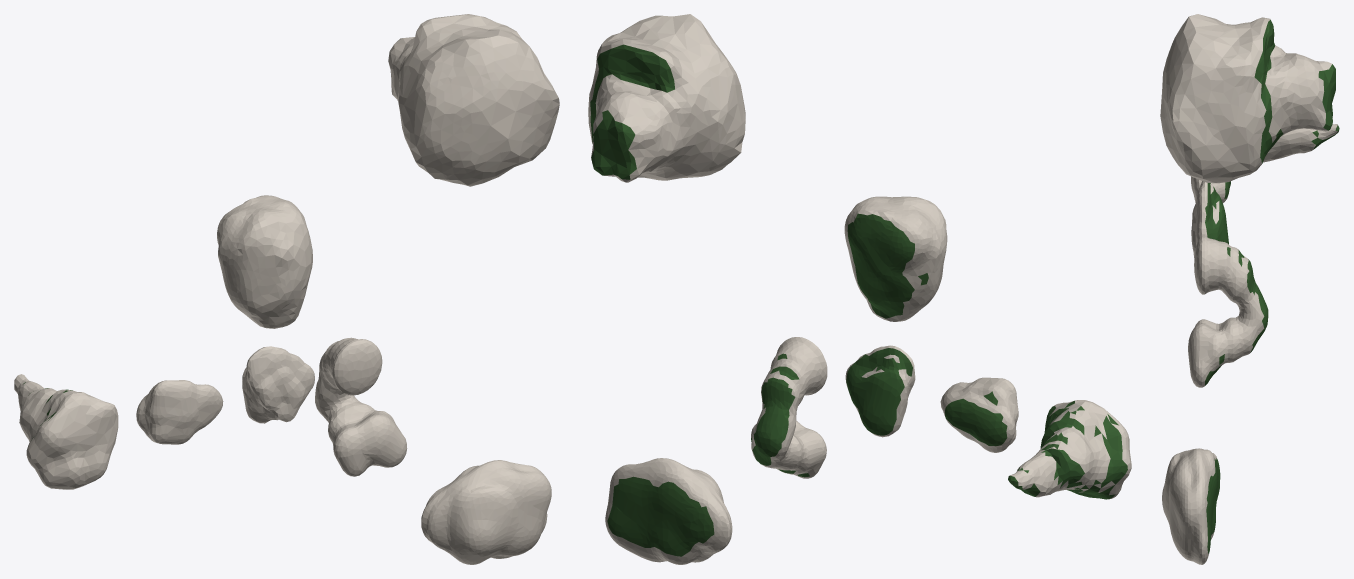
Rendered from Rocks.fbx.
3 renders of one model, left to right at view 1: azimuth 30°, elevation 25°; view 2: azimuth 150°, elevation 25°; view 3: azimuth 270°, elevation 25°, orthographic. The views are drawn at different scales.
Parts seen in each view (by area): view 1: Rock 2, Rock 3, Rock 1, Rock 6, Arch 1, Rock 4, Rock 5; view 2: Rock 2, Rock 3, Rock 1, Rock 6, Arch 1, Rock 4, Rock 5; view 3: Rock 2, Arch 1, Rock 3, Rock 4, Rock 6, Rock 5.
Boxes of the visible parts, x1,y1,x2,y2 form: Rock 2: (388, 14, 559, 186); Rock 3: (421, 460, 551, 564); Rock 1: (217, 195, 312, 328); Rock 6: (14, 374, 118, 489); Arch 1: (315, 337, 407, 476); Rock 4: (242, 346, 314, 423); Rock 5: (136, 380, 223, 444); Rock 2: (588, 14, 745, 182); Rock 3: (605, 458, 732, 564); Rock 1: (844, 196, 947, 321); Rock 6: (1008, 400, 1131, 499); Arch 1: (751, 337, 827, 478); Rock 4: (845, 345, 915, 437); Rock 5: (940, 377, 1018, 452); Rock 2: (1160, 14, 1335, 183); Arch 1: (1188, 235, 1268, 387); Rock 3: (1162, 448, 1220, 564); Rock 4: (1191, 181, 1228, 258); Rock 6: (1263, 124, 1339, 162); Rock 5: (1191, 176, 1230, 202).
Bounding box in the file's own units: 8417 × 8277 × 2550.
